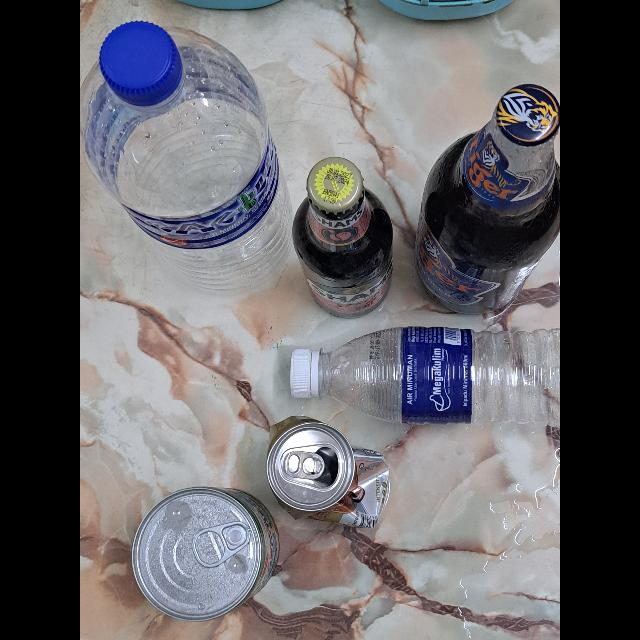aba de lata: (193, 522, 251, 568), (284, 450, 326, 478)
garrafa de vidro: (414, 83, 560, 317), (292, 156, 394, 322)
garrafa plástica: (80, 28, 292, 294), (316, 325, 560, 425)
lata: (132, 486, 280, 620), (268, 422, 390, 528)
tampa plástica: (100, 20, 182, 106), (290, 348, 312, 398)
